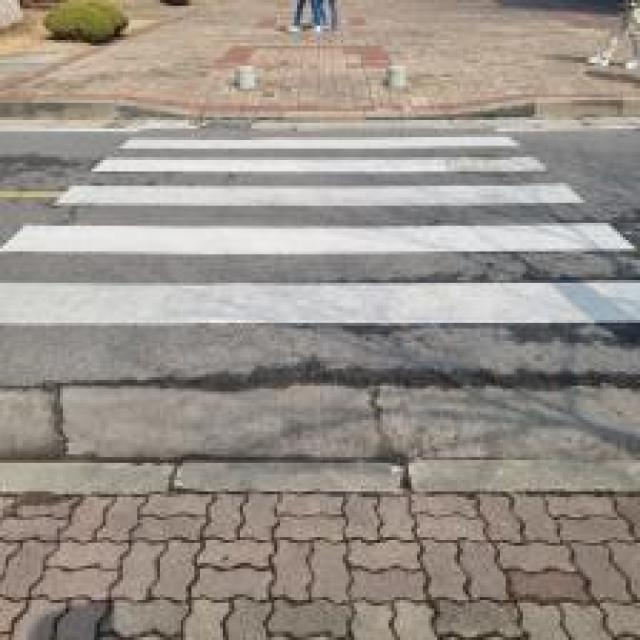walk-crossing: (15, 123, 613, 394)
